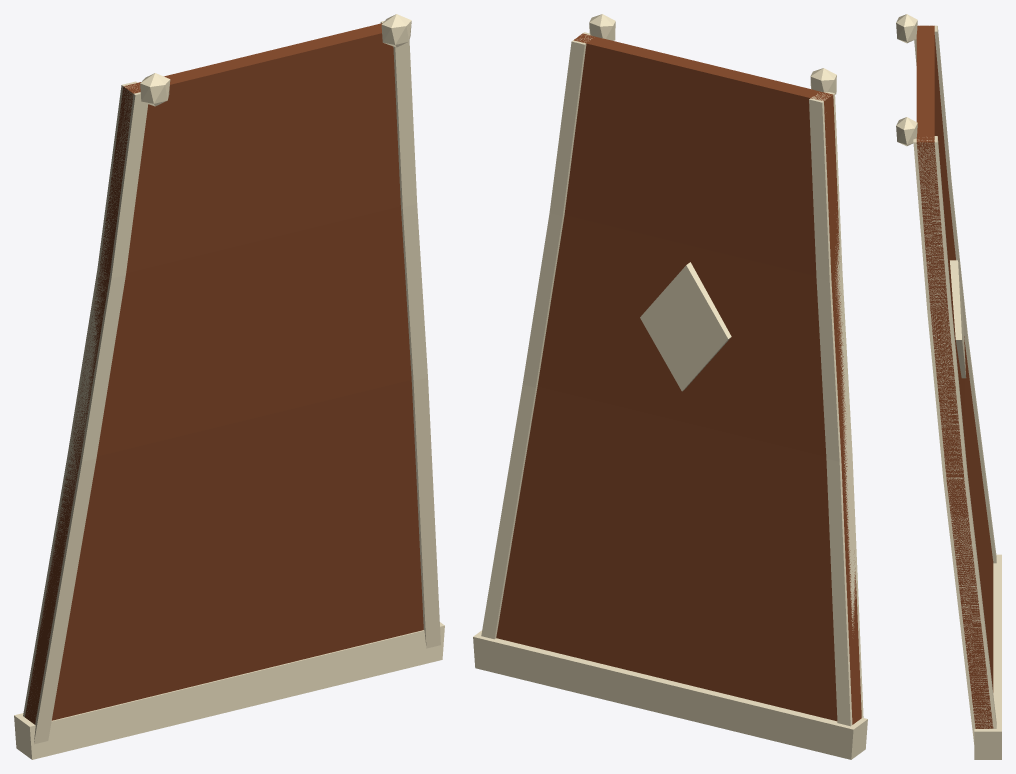
Rendered from gear_cape_cooking.glb.
The picture shows the model from 3 angles, left to right: view 1: azimuth 30°, elevation 25°; view 2: azimuth 150°, elevation 25°; view 3: azimuth 270°, elevation 25°; orthographic projection. The views are drawn at different scales.
Visible parts, largest first — view 1: gear_cape_cooking; view 2: gear_cape_cooking; view 3: gear_cape_cooking.
Part boxes in pixels (left/top/right/bottom): gear_cape_cooking: left=14, top=14, right=444, bottom=759; gear_cape_cooking: left=473, top=14, right=867, bottom=759; gear_cape_cooking: left=896, top=14, right=1001, bottom=759.
Bounding box in the file's own units: 0.516 × 0.825 × 0.1304.
